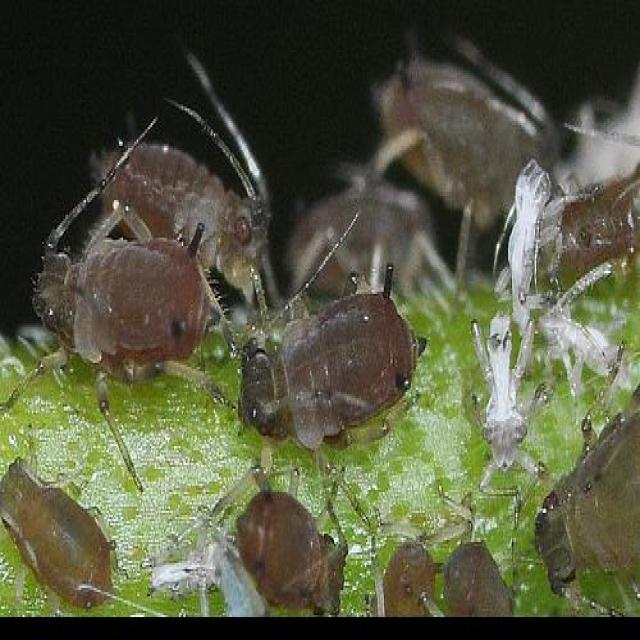Aphids: (73, 77, 296, 334), (193, 267, 453, 471), (32, 179, 234, 419)
